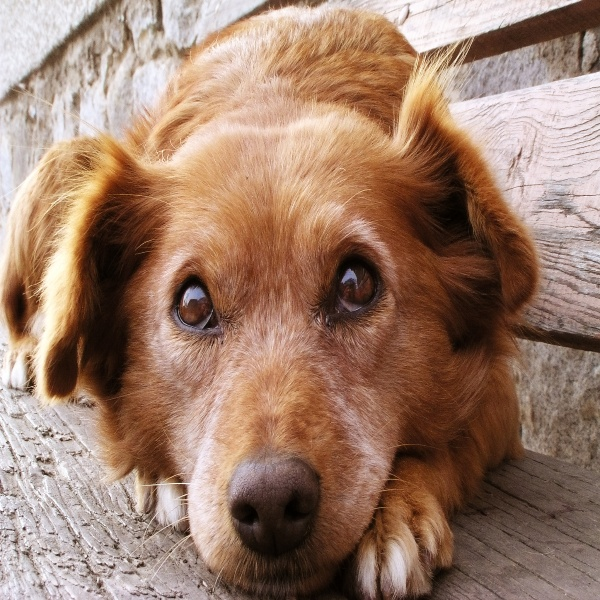dog: (1, 8, 540, 600)
